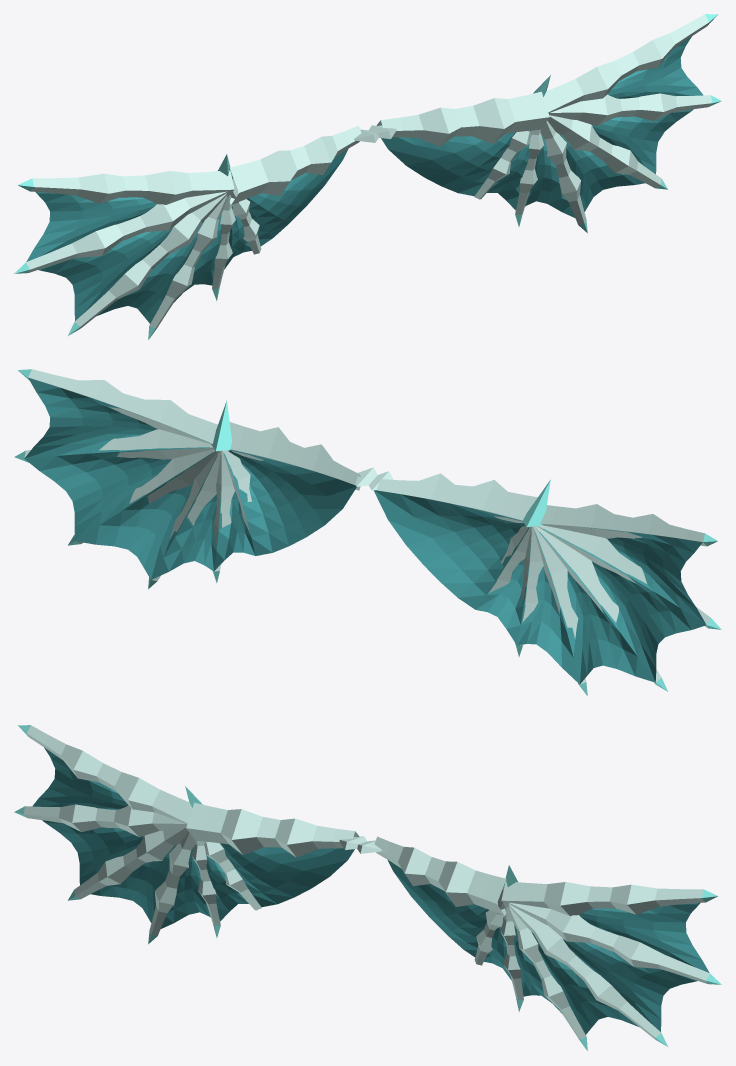
File: phantom_wings.obj
The picture shows the model from 3 angles, top to bottom: view 1: azimuth 30°, elevation 25°; view 2: azimuth 150°, elevation 25°; view 3: azimuth 330°, elevation 25°; orthographic projection.
Visible parts, largest first — view 1: LeftWing, RightWing; view 2: RightWing, LeftWing; view 3: RightWing, LeftWing.
Boxes of the visible parts, box(x1,y1,x2,y2) form: LeftWing: box(14, 125, 378, 339); RightWing: box(369, 14, 721, 233); RightWing: box(14, 369, 377, 589); LeftWing: box(369, 471, 721, 695); RightWing: box(357, 836, 721, 1050); LeftWing: box(14, 725, 366, 944).
Bounding box in the file's own units: 3.22 × 0.8311 × 0.2596.
